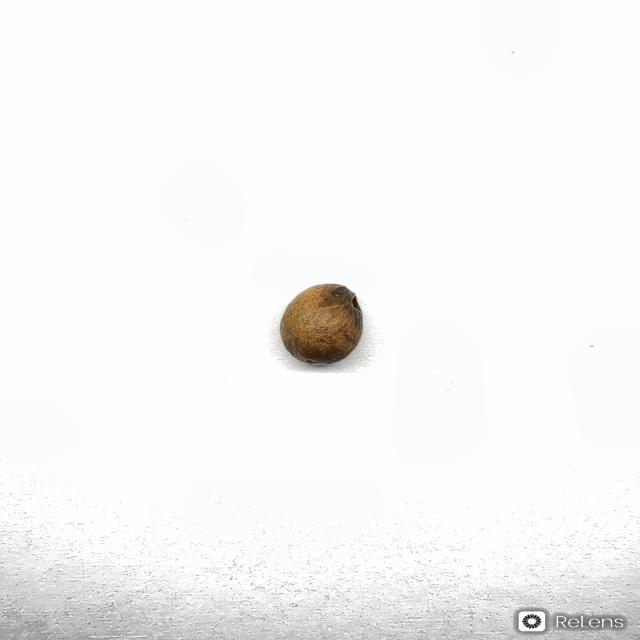Insect damage: (278, 282, 364, 365)
